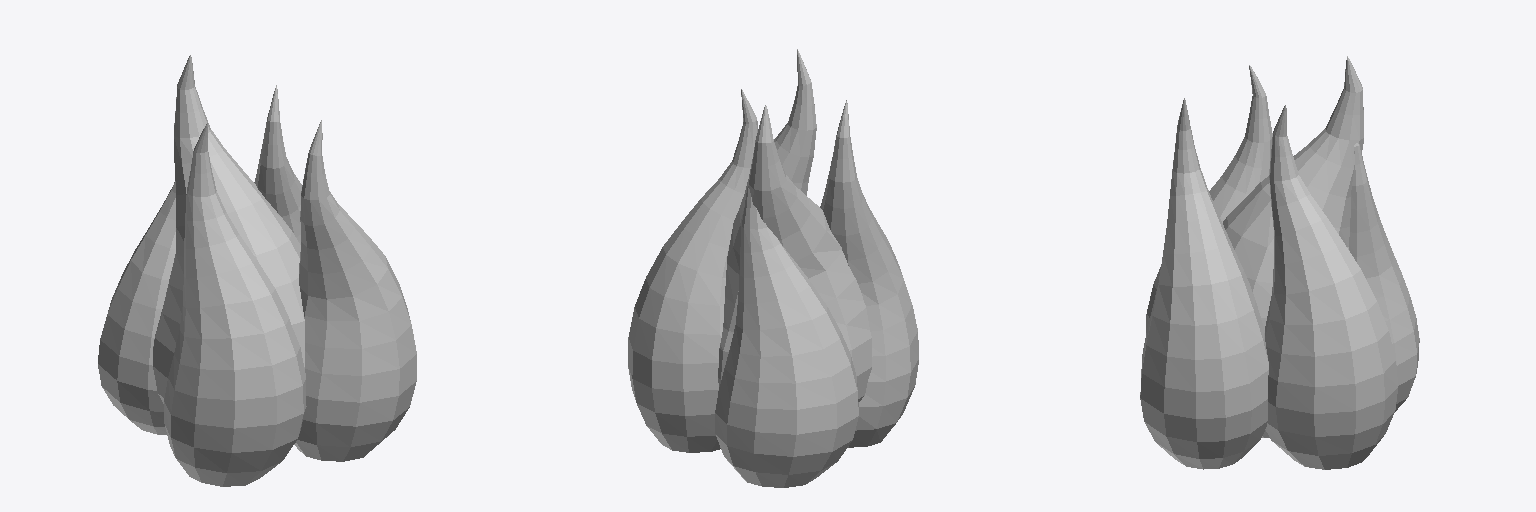
File: fire_000065.obj
3 views of the same model, side by side, from view 1: azimuth 30°, elevation 25°; view 2: azimuth 150°, elevation 25°; view 3: azimuth 270°, elevation 25° (orthographic).
Visible parts, largest first — view 1: flame_NurbsPath.015; view 2: flame_NurbsPath.015; view 3: flame_NurbsPath.015.
Part boxes in pixels (bbox=[...]): flame_NurbsPath.015: bbox=[98, 55, 416, 486]; flame_NurbsPath.015: bbox=[628, 49, 918, 487]; flame_NurbsPath.015: bbox=[1140, 56, 1419, 469].
Size of the model in its own units: 0.7584 by 1.17 by 0.7987.